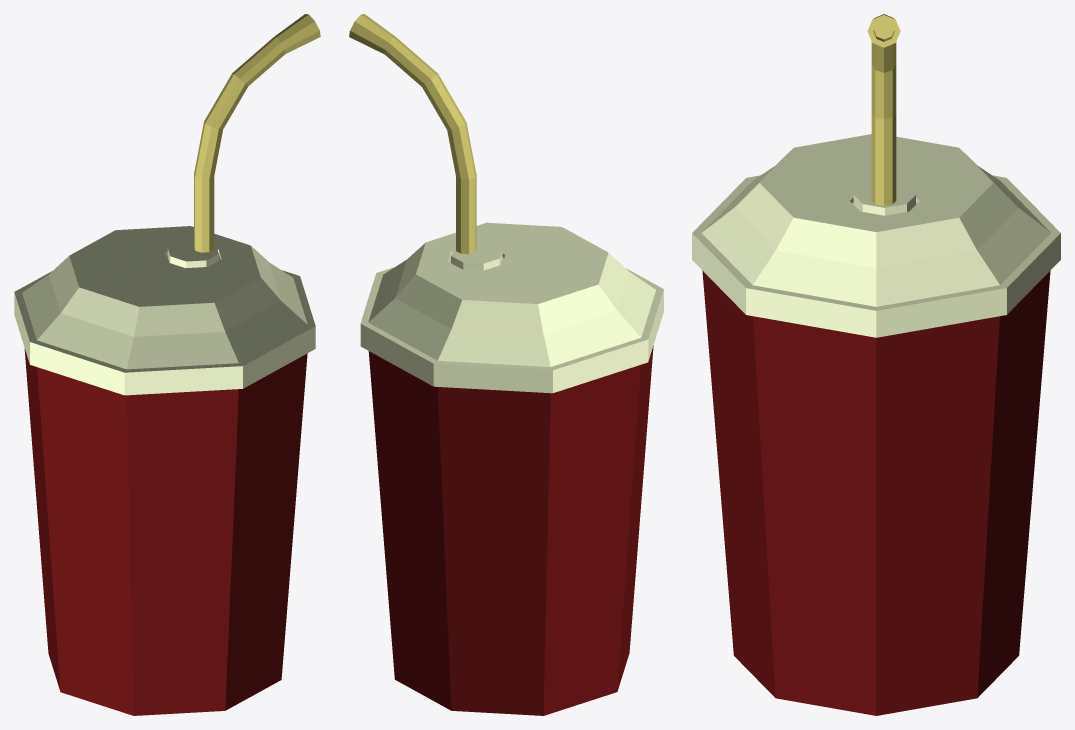
The model's file is Drink Cup 1.fbx.
The picture shows the model from 3 angles, left to right: view 1: azimuth 30°, elevation 25°; view 2: azimuth 150°, elevation 25°; view 3: azimuth 270°, elevation 25°; orthographic projection. The views are drawn at different scales.
Visible parts, largest first — view 1: Node 0; view 2: Node 0; view 3: Node 0.
Part boxes in pixels (bbox=[...]): Node 0: bbox=[14, 14, 320, 715]; Node 0: bbox=[349, 14, 663, 715]; Node 0: bbox=[692, 14, 1060, 715].
Size of the model in its own units: 0.1018 by 0.221 by 0.1093.
